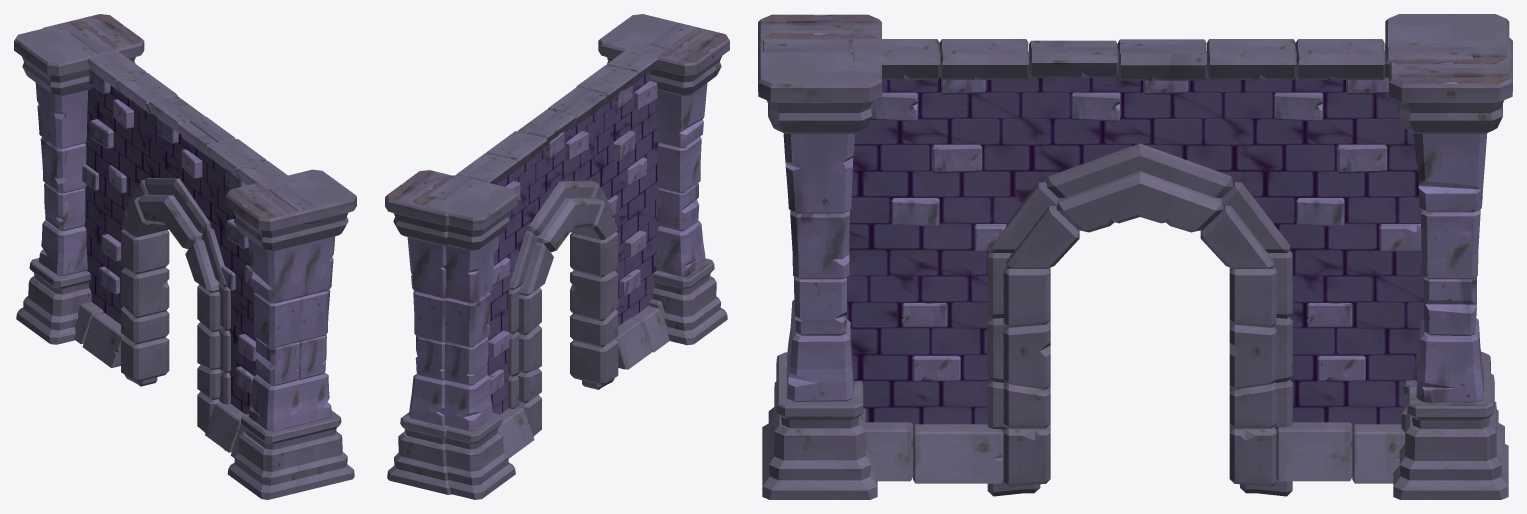
Rendered from WallArch_01.fbx.
3 views of the same model, side by side, from view 1: azimuth 30°, elevation 25°; view 2: azimuth 150°, elevation 25°; view 3: azimuth 270°, elevation 25° (orthographic). The views are drawn at different scales.
Visible parts, largest first — view 1: WallArch_01; view 2: WallArch_01; view 3: WallArch_01.
Part boxes in pixels (x1,y1,x2,y2): WallArch_01: (14,14,356,499); WallArch_01: (385,14,729,499); WallArch_01: (758,14,1512,499).
Bounding box in the file's own units: 166 × 483 × 745.
